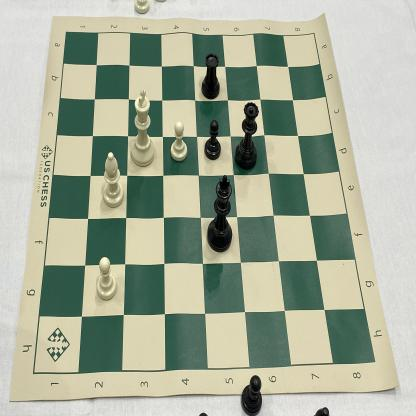black-king: (206, 171, 233, 255)
black-pawn: (203, 120, 223, 162)
black-queen: (233, 97, 258, 171)
black-rook: (199, 50, 221, 103)
white-bishop: (99, 151, 125, 210)
white-king: (128, 87, 156, 169)
white-pawn: (94, 255, 119, 304), (169, 119, 189, 163)
